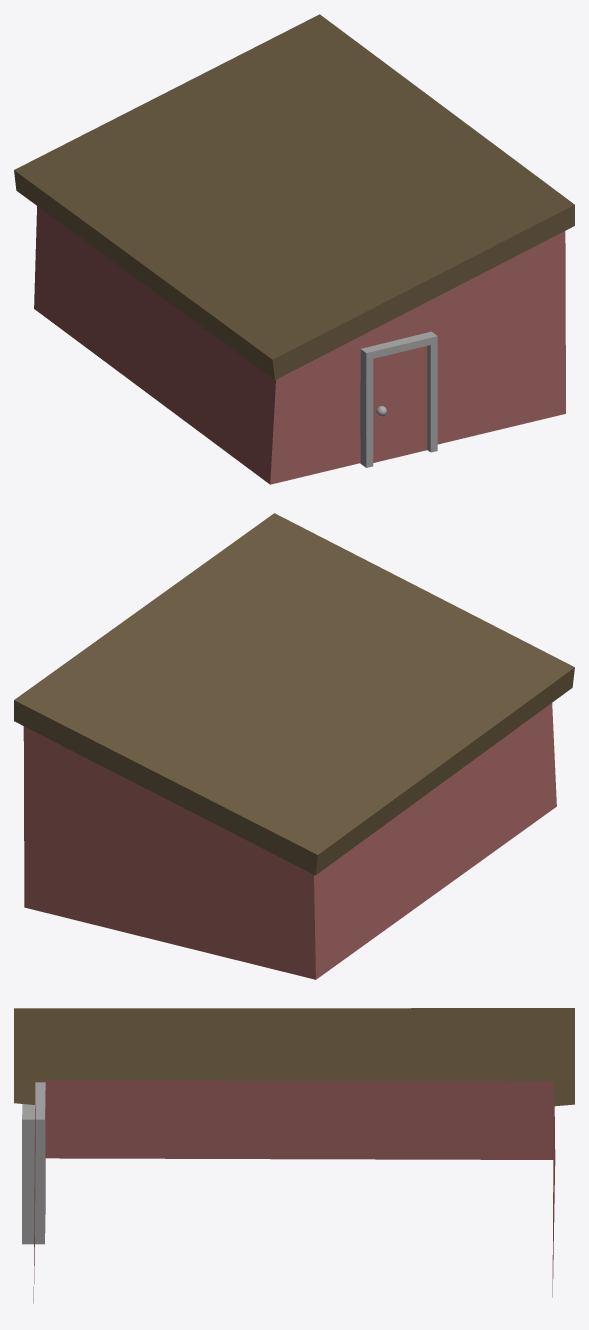
File: Extension_SM.fbx
3 renders of one model, top to bottom at view 1: azimuth 30°, elevation 25°; view 2: azimuth 150°, elevation 25°; view 3: azimuth 270°, elevation 25°, orthographic. The views are drawn at different scales.
Visible parts, largest first — view 1: Extension_SM; view 2: Extension_SM; view 3: Extension_SM.
Boxes of the visible parts, box(x1,y1,x2,y2) form: Extension_SM: box(14, 14, 574, 484); Extension_SM: box(14, 513, 574, 979); Extension_SM: box(14, 1008, 574, 1303).
Bounding box in the file's own units: 391 × 265 × 574.
